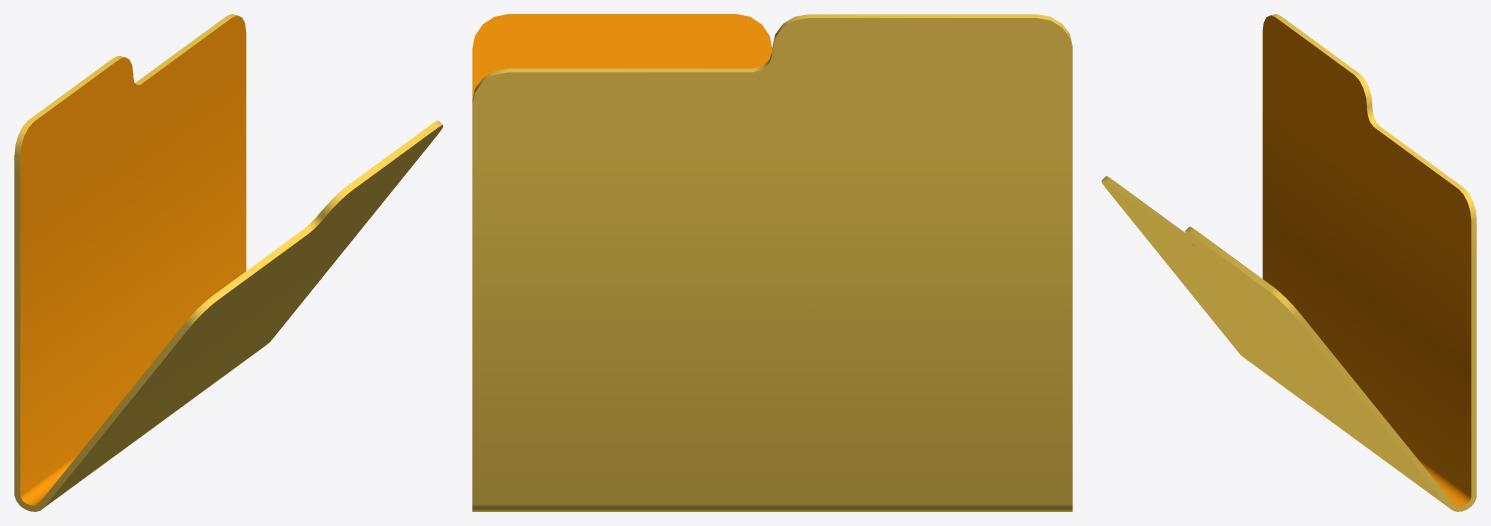
File: open_file_folder.glb
3 views of the same model, side by side, from view 1: azimuth 30°, elevation 25°; view 2: azimuth 150°, elevation 25°; view 3: azimuth 270°, elevation 25° (orthographic). The views are drawn at different scales.
Parts seen in each view (by area): view 1: Cube.977; view 2: Cube.977; view 3: Cube.977.
Boxes of the visible parts, x1,y1,x2,y2 form: Cube.977: [14, 14, 443, 511]; Cube.977: [472, 14, 1072, 511]; Cube.977: [1101, 14, 1476, 511].
Size of the model in its own units: 2.26 by 1.86 by 1.82.
Materials: 1 (1 with a texture image).
